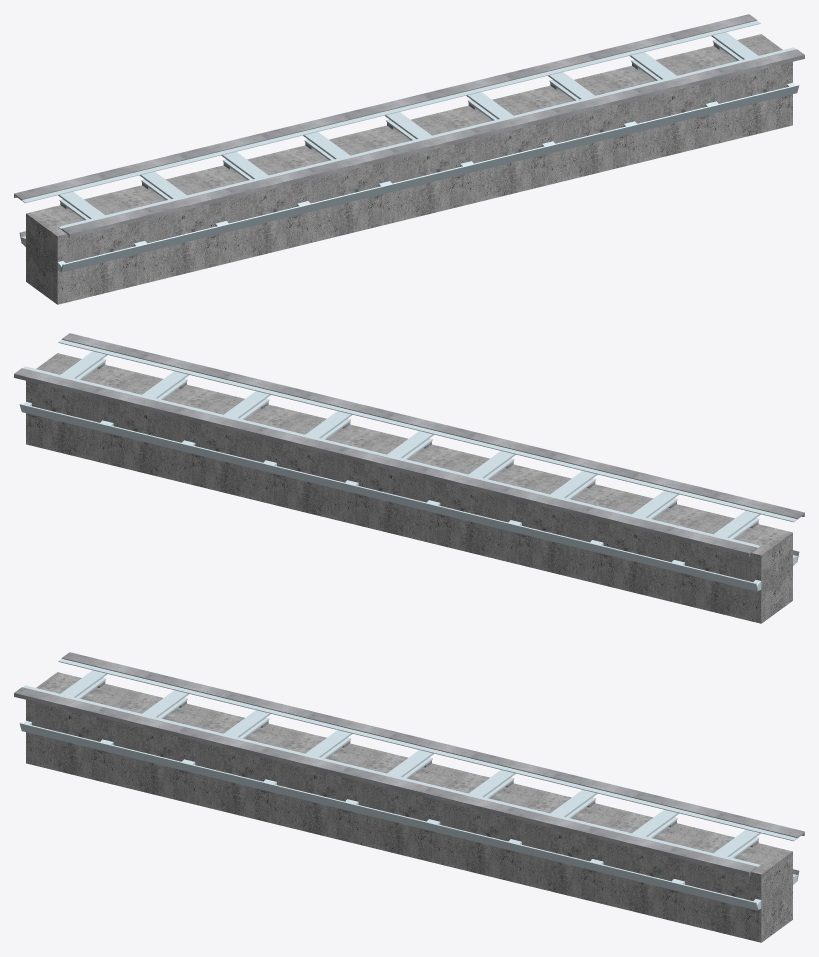
Rendered from rail_mid.dae.
The picture shows the model from 3 angles, top to bottom: view 1: azimuth 30°, elevation 25°; view 2: azimuth 150°, elevation 25°; view 3: azimuth 330°, elevation 25°; orthographic projection.
Parts seen in each view (by area): view 1: Cube.008; view 2: Cube.008; view 3: Cube.008.
Boxes of the visible parts, bbox=[...] form: Cube.008: bbox=[14, 14, 804, 304]; Cube.008: bbox=[14, 333, 804, 623]; Cube.008: bbox=[14, 652, 804, 942].
Size of the model in its own units: 27.04 by 3.54 by 2.79.
Materials: 3 (2 with a texture image).
